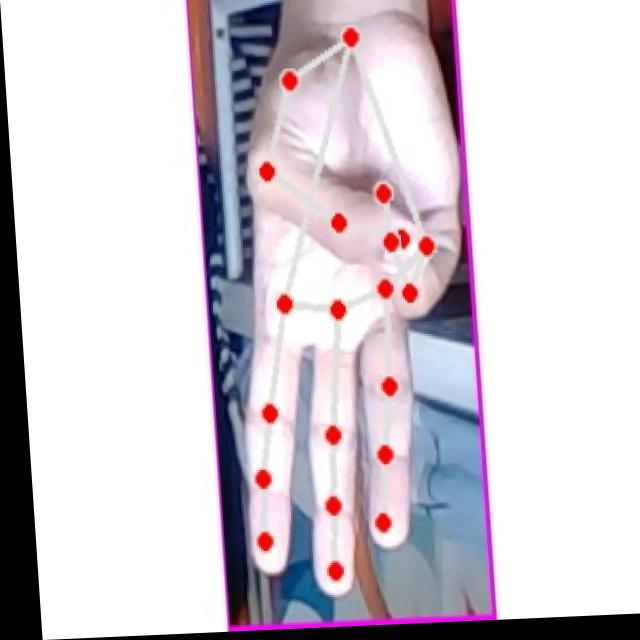W: (212, 30, 471, 606)
